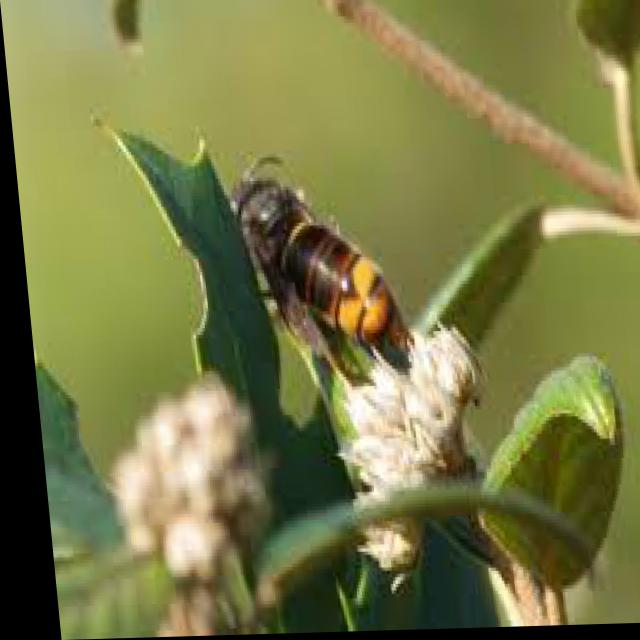Vespa Velutina: (211, 137, 413, 385)
